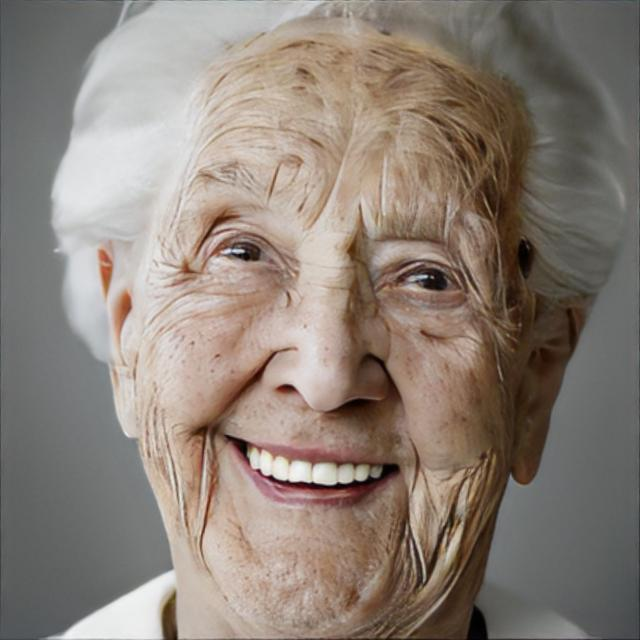happy: (144, 25, 523, 640)
